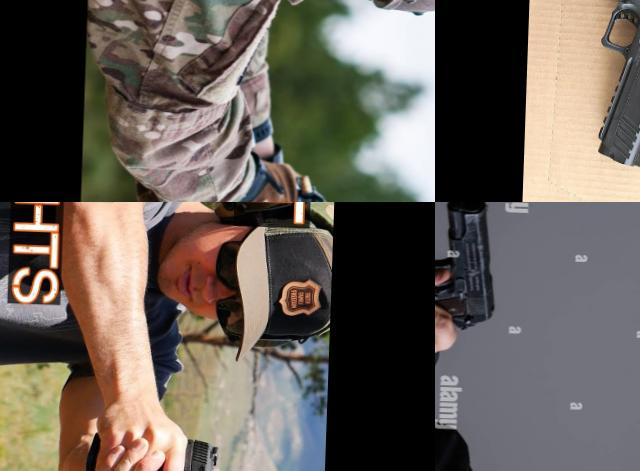handgun: (532, 0, 640, 172), (435, 202, 506, 347), (79, 424, 222, 471), (260, 172, 338, 202)
